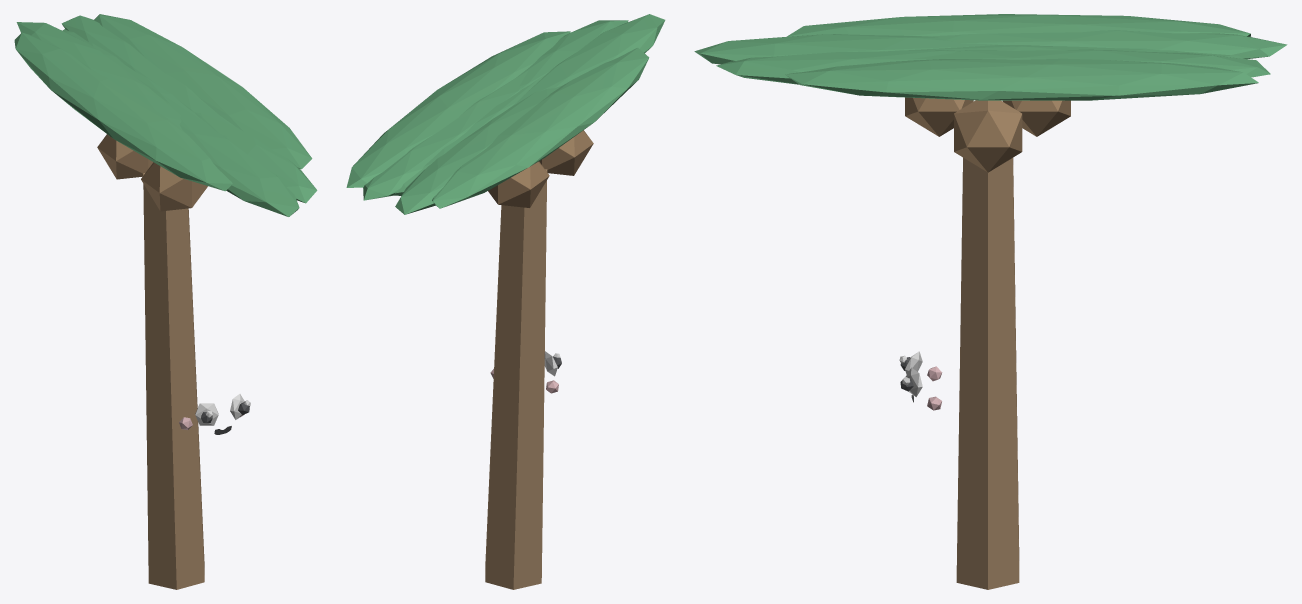
File: cocos-nucifera.glb
3 renders of one model, left to right at view 1: azimuth 30°, elevation 25°; view 2: azimuth 150°, elevation 25°; view 3: azimuth 270°, elevation 25°, orthographic. The views are drawn at different scales.
Parts seen in each view (by area): view 1: trunk, frond3, frond0, frond2, frond4, frond6, frond1, coco1, coco2, frond5; view 2: trunk, frond3, frond0, frond4, frond6, frond2, frond1, coco2, coco1, frond5; view 3: trunk, frond0, frond3, frond4, frond2, coco0, frond6, frond1, coco1, coco2, frond5.
Part boxes in pixels (x1,y1,x2,y2): trunk: [143, 173, 204, 589]; frond3: [14, 32, 232, 191]; frond0: [94, 14, 312, 169]; frond2: [164, 100, 299, 216]; frond4: [16, 22, 181, 128]; frond6: [61, 15, 233, 125]; frond1: [194, 112, 317, 203]; coco1: [141, 162, 207, 211]; coco2: [97, 134, 153, 179]; frond5: [62, 29, 228, 137]; trunk: [485, 169, 547, 589]; frond3: [432, 48, 649, 208]; frond0: [346, 31, 570, 187]; frond4: [395, 86, 561, 214]; frond6: [363, 69, 528, 200]; frond2: [512, 14, 665, 105]; frond1: [519, 20, 628, 89]; coco2: [488, 161, 549, 207]; coco1: [539, 130, 593, 175]; frond5: [393, 65, 555, 195]; trunk: [956, 157, 1019, 589]; frond0: [785, 58, 1258, 100]; frond3: [787, 14, 1250, 36]; frond4: [928, 30, 1287, 59]; frond2: [694, 34, 1003, 64]; coco0: [954, 100, 1022, 172]; frond6: [907, 49, 1270, 77]; frond1: [716, 50, 958, 84]; coco1: [905, 97, 973, 136]; coco2: [1002, 100, 1070, 136]; frond5: [884, 45, 1241, 58].
Bounding box in the file's own units: 0.231 × 0.7299 × 0.7378.
